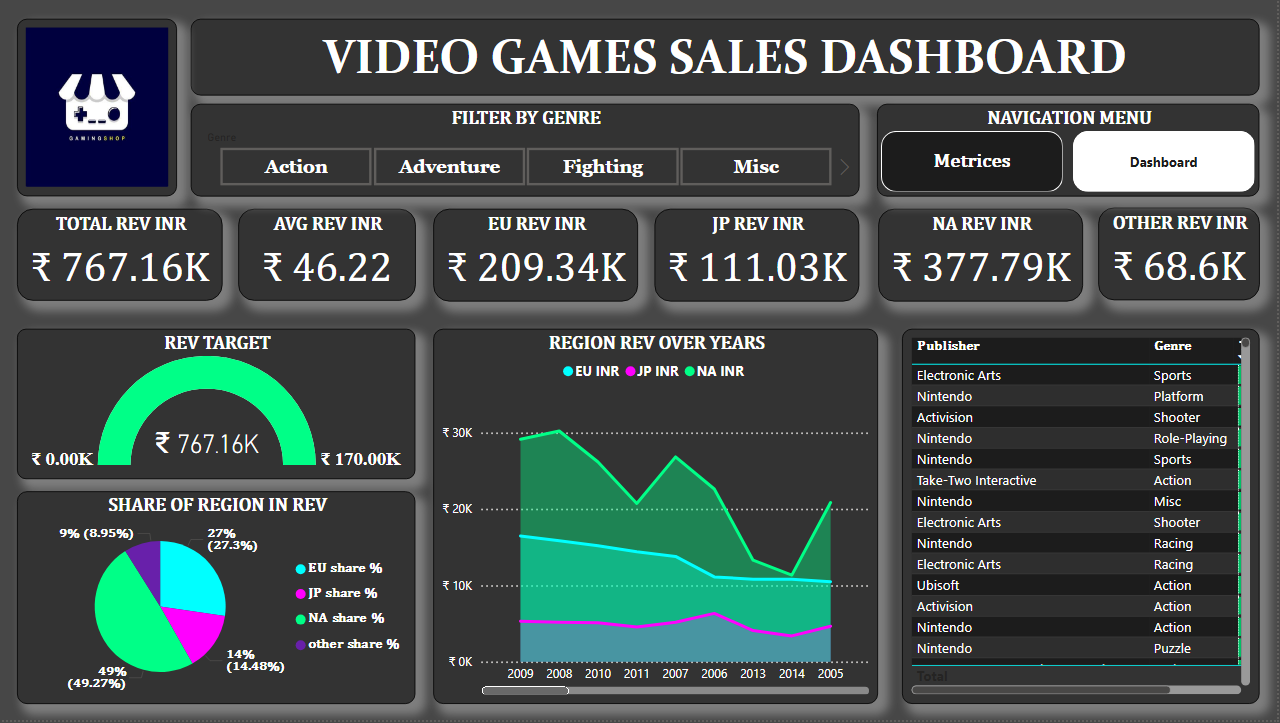

The dashboard page shown, as its layout file describes it:
{"tool":"powerbi","page":{"name":"Dashboard","canvas":[1280,720],"ordinal":1},"visuals":[{"type":"textbox","box":[193.2,18.3,1068.8,77],"z":0},{"type":"image","box":[19.6,18.3,160.2,177.3],"z":1000},{"type":"card","title":"TOTAL REV INR","fields":{"Values":["Measures (2).Total rev INR"]},"box":[19.6,209.1,205.4,91.7],"z":2000},{"type":"card","title":"AVG REV INR","fields":{"Values":["Measures (2).Avg rev INR"]},"box":[240.9,209.1,177.3,91.7],"z":3000},{"type":"slicer","title":"FILTER BY GENRE","fields":{"Values":["vgsales.Genre"]},"box":[193.8,103.8,668.8,92.5],"z":4000},{"type":"gauge","title":"REV TARGET","fields":{"Y":["Measures (2).Total rev INR"]},"box":[19.6,328.9,398.6,150.4],"z":5000},{"type":"lineChart","title":"REGION REV OVER YEARS","fields":{"Category":["vgsales.Year"],"Y":["Measures (2).EU INR","Measures (2).JP INR","Measures (2).NA INR"]},"box":[436.2,328.8,445,375],"z":6000},{"type":"card","title":"EU REV INR","fields":{"Values":["Measures (2).EU INR"]},"box":[436.2,208.8,205,92.5],"z":7000},{"type":"card","title":"JP REV INR","fields":{"Values":["Measures (2).JP INR"]},"box":[657.5,208.8,205,92.5],"z":8000},{"type":"card","title":"NA REV INR","fields":{"Values":["Measures (2).NA INR"]},"box":[881.2,208.8,205,92.5],"z":9000},{"type":"card","title":"OTHER REV INR","fields":{"Values":["Measures (2).other rev INR"]},"box":[1101.2,207.5,161.2,92.5],"z":10000},{"type":"pieChart","title":"SHARE OF REGION IN REV","fields":{"Y":["Measures (2).EU share %","Measures (2).JP share %","Measures (2).NA share %","Measures (2).other share %"]},"box":[20,491.2,398.8,212.5],"z":11000},{"type":"tableEx","fields":{"Values":["vgsales.Publisher","vgsales.Genre","Measures (2).Total rev INR"]},"box":[905,328.8,357.5,375],"z":12000},{"type":"pageNavigator","title":"NAVIGATION MENU","box":[880,103.8,382.5,92.5],"z":13000}]}

Visuals, with their boxes in screenshot pixels (x1, y1, x2, y2), scaled from the page's 1280x720 canvas onto the 1280x723 screenshot:
textbox: (x1=193, y1=18, x2=1262, y2=96)
image: (x1=20, y1=18, x2=180, y2=196)
"TOTAL REV INR" card: (x1=20, y1=210, x2=225, y2=302)
"AVG REV INR" card: (x1=241, y1=210, x2=418, y2=302)
"FILTER BY GENRE" slicer: (x1=194, y1=104, x2=863, y2=197)
"REV TARGET" gauge: (x1=20, y1=330, x2=418, y2=481)
"REGION REV OVER YEARS" lineChart: (x1=436, y1=330, x2=881, y2=707)
"EU REV INR" card: (x1=436, y1=210, x2=641, y2=303)
"JP REV INR" card: (x1=658, y1=210, x2=862, y2=303)
"NA REV INR" card: (x1=881, y1=210, x2=1086, y2=303)
"OTHER REV INR" card: (x1=1101, y1=208, x2=1262, y2=301)
"SHARE OF REGION IN REV" pieChart: (x1=20, y1=493, x2=419, y2=707)
tableEx - vgsales.Publisher x vgsales.Genre: (x1=905, y1=330, x2=1262, y2=707)
"NAVIGATION MENU" pageNavigator: (x1=880, y1=104, x2=1262, y2=197)
